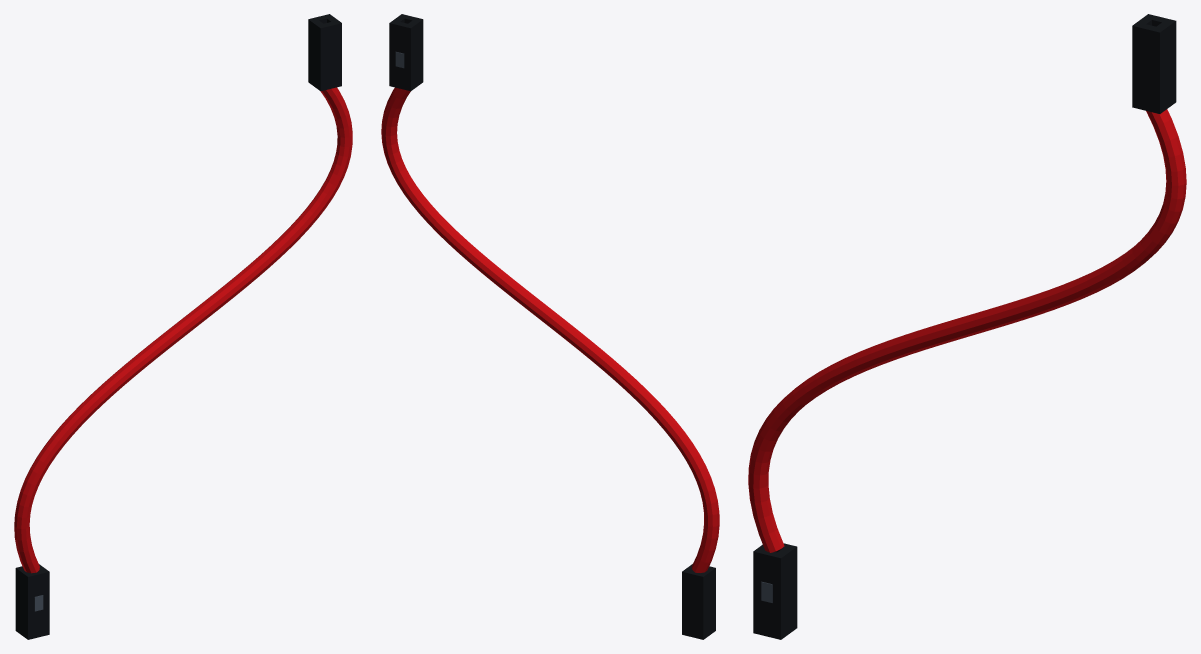
The model's file is jumper_wire.obj.
3 renders of one model, left to right at view 1: azimuth 30°, elevation 25°; view 2: azimuth 150°, elevation 25°; view 3: azimuth 330°, elevation 25°, orthographic. The views are drawn at different scales.
Parts seen in each view (by area): view 1: jumper_wire; view 2: jumper_wire; view 3: jumper_wire.
Boxes of the visible parts, x1=… form: jumper_wire: x1=14, y1=14, x2=352, y2=639; jumper_wire: x1=381, y1=14, x2=719, y2=639; jumper_wire: x1=748, y1=14, x2=1186, y2=639.
Bounding box in the file's own units: 1.3 × 2 × 0.0953.
